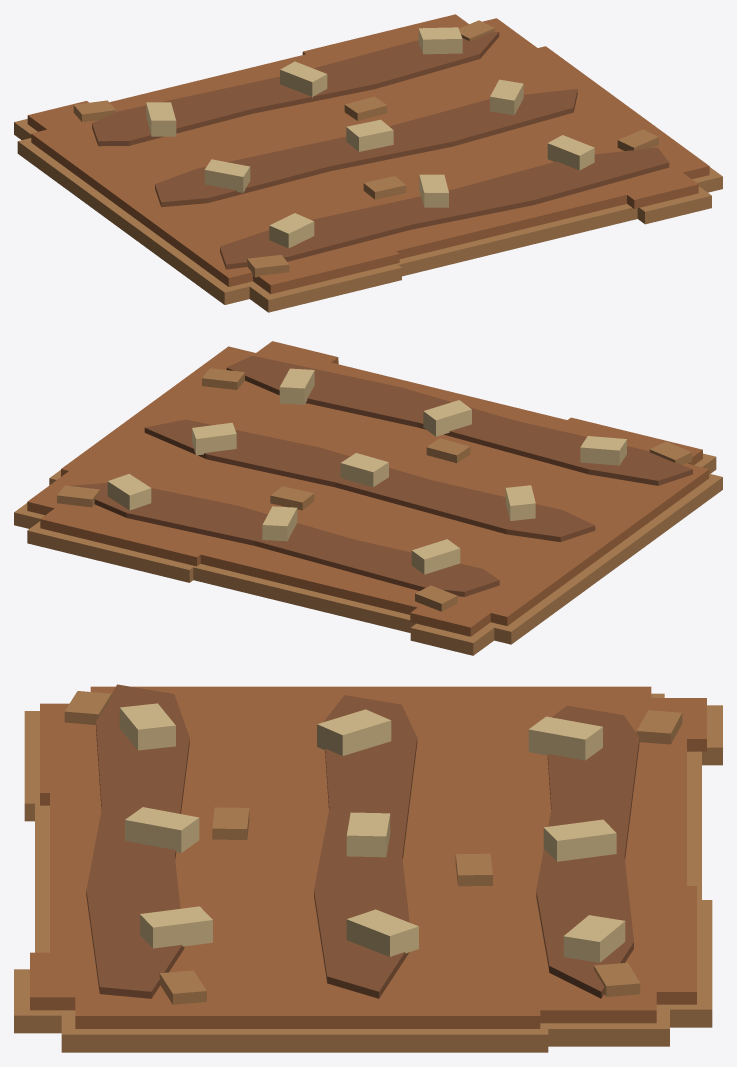
Rendered from plot-seeded.glb.
The picture shows the model from 3 angles, top to bottom: view 1: azimuth 30°, elevation 25°; view 2: azimuth 150°, elevation 25°; view 3: azimuth 270°, elevation 25°; orthographic projection. The views are drawn at different scales.
Parts seen in each view (by area): view 1: Earth clod; view 2: Earth clod; view 3: Earth clod.
Part boxes in pixels (x1=…): Earth clod: x1=14, y1=14, x2=722, y2=312; Earth clod: x1=14, y1=341, x2=722, y2=655; Earth clod: x1=14, y1=684, x2=722, y2=1052.
Bounding box in the file's own units: 1.77 × 0.1415 × 1.55.
